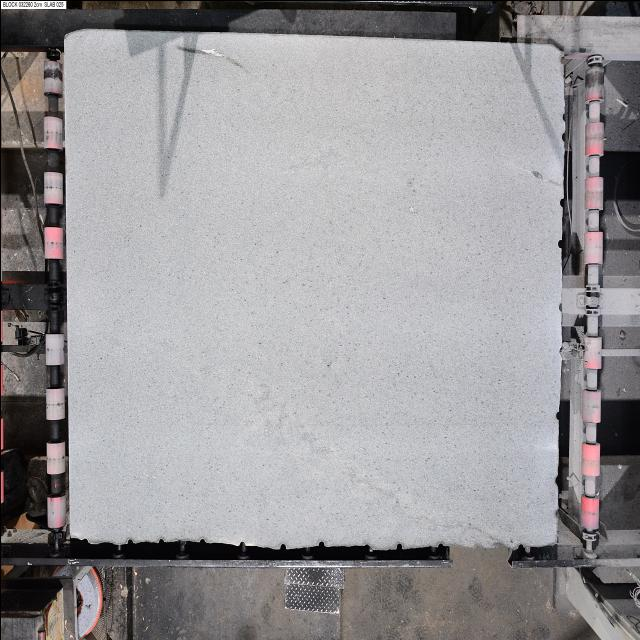chapa: (64, 30, 562, 548)
veio: (394, 540, 404, 553), (315, 540, 327, 550), (556, 234, 562, 250)
